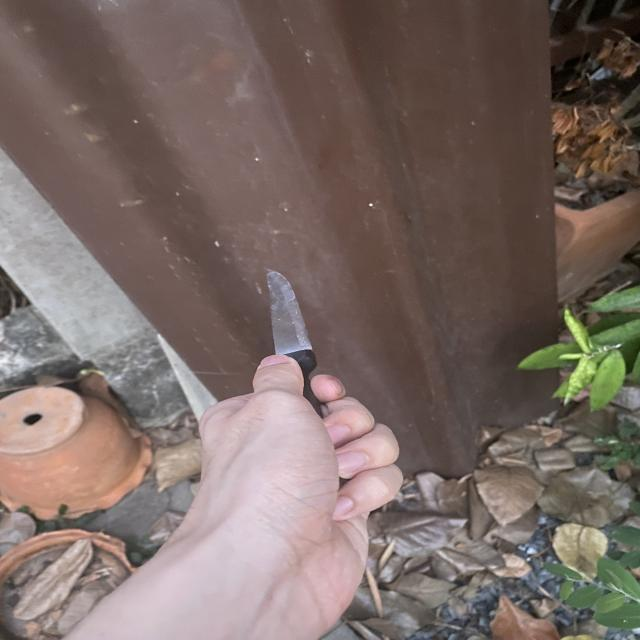faca: (205, 245, 414, 592)
